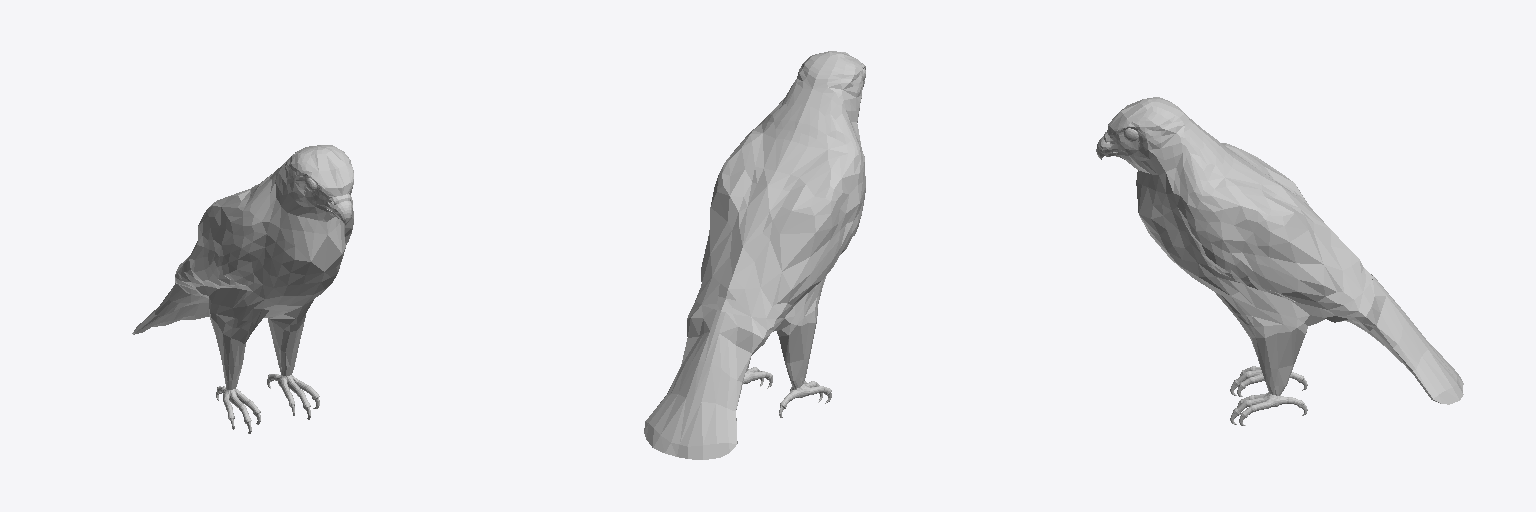
The model's file is FALCON_1.OBJ.
The picture shows the model from 3 angles: view 1: azimuth 30°, elevation 25°; view 2: azimuth 150°, elevation 25°; view 3: azimuth 270°, elevation 25°; orthographic projection.
Visible parts, largest first — view 1: falc_body; view 2: falc_body; view 3: falc_body.
Boxes of the visible parts, x1,y1,x2,y2 form: falc_body: [132, 145, 353, 433]; falc_body: [644, 51, 865, 459]; falc_body: [1096, 97, 1463, 425].
Size of the model in its own units: 0.1021 by 0.2389 by 0.2568.